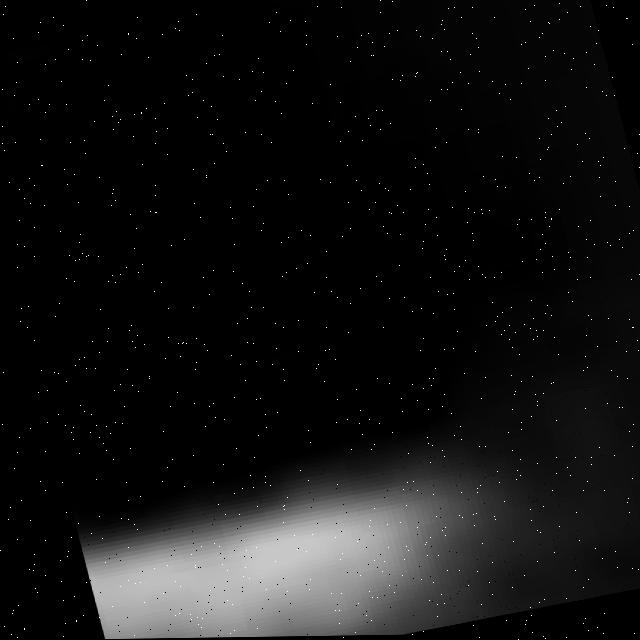person: (56, 424, 536, 640)
